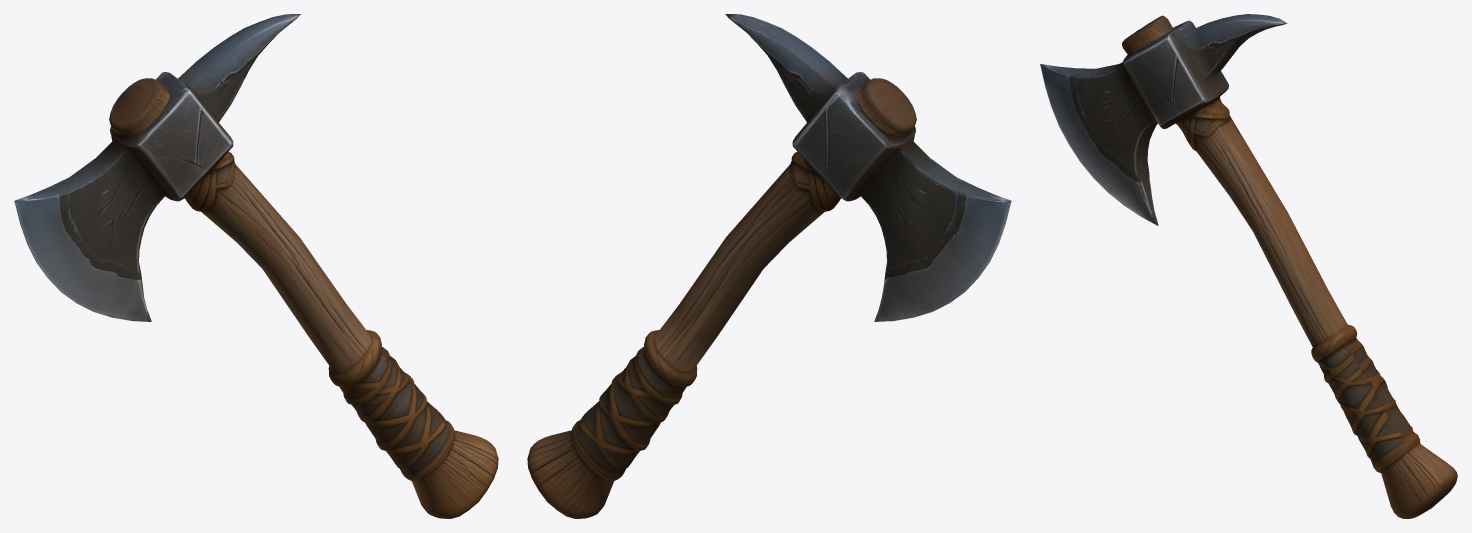
The model's file is Weapons__primitive_axe_16832930_v1.cluster.glb.
3 views of the same model, side by side, from view 1: azimuth 30°, elevation 25°; view 2: azimuth 150°, elevation 25°; view 3: azimuth 330°, elevation 25° (orthographic). The views are drawn at different scales.
Visible parts, largest first — view 1: mesh_input; view 2: mesh_input; view 3: mesh_input.
Part boxes in pixels (left/top/right/bottom): mesh_input: left=14, top=14, right=498, bottom=518; mesh_input: left=527, top=14, right=1011, bottom=518; mesh_input: left=1040, top=14, right=1457, bottom=518.
Bounding box in the file's own units: 1.77 × 1.9 × 0.1914.
1 material, 1 textured.
